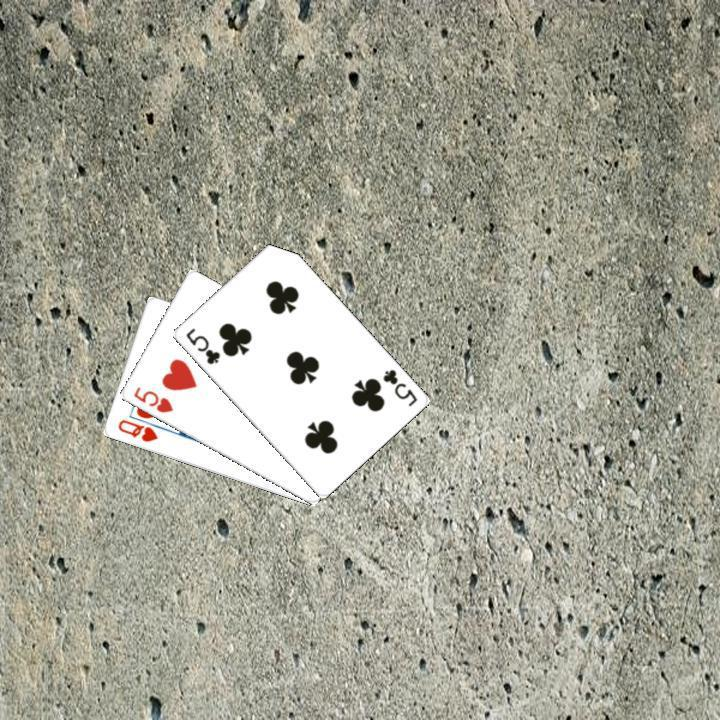5: (181, 324, 222, 367), (378, 365, 419, 408), (129, 382, 175, 415)
Q: (113, 415, 159, 444)
